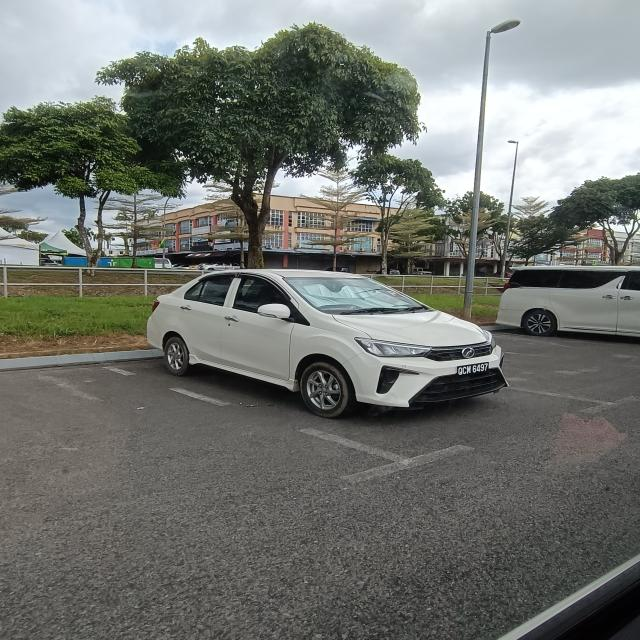PeroduaBezza: (145, 267, 509, 419)
